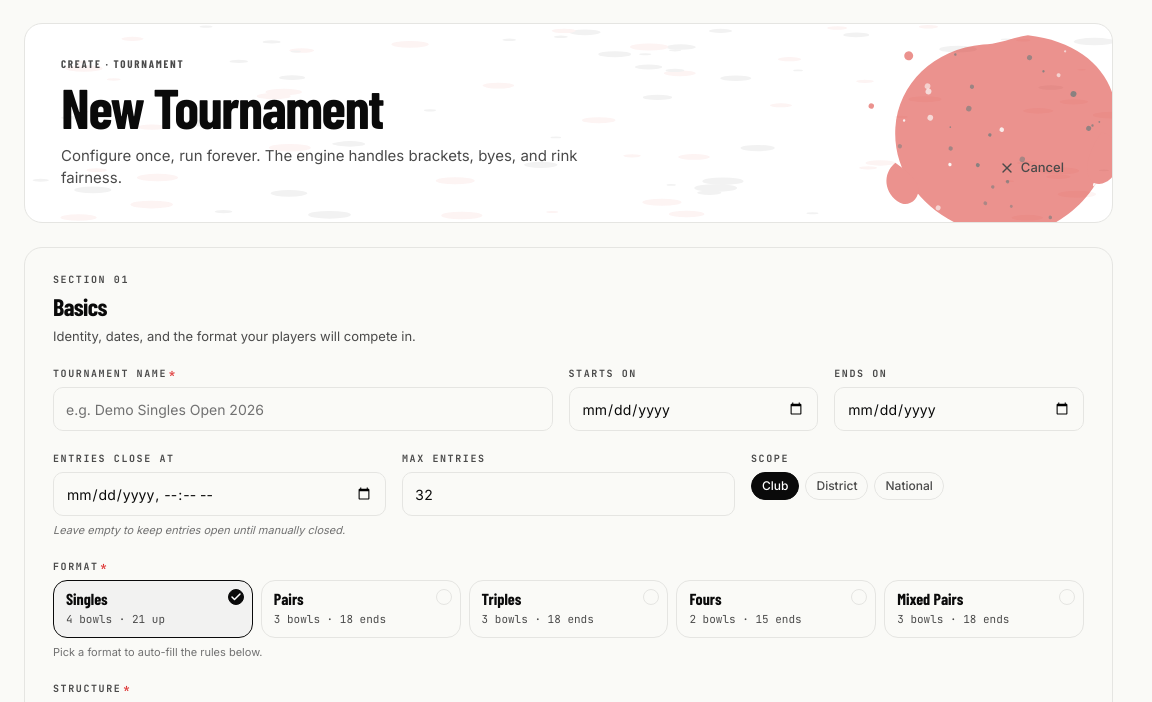
Test: <NewTournamentForm /> › flips the footer copy + enables submit once name + format + structure are set
Type "Demo Open 2026" into the field with placeholder "e.g. Demo Singles Open 2026" at (303, 409), box [53,387,552,431]
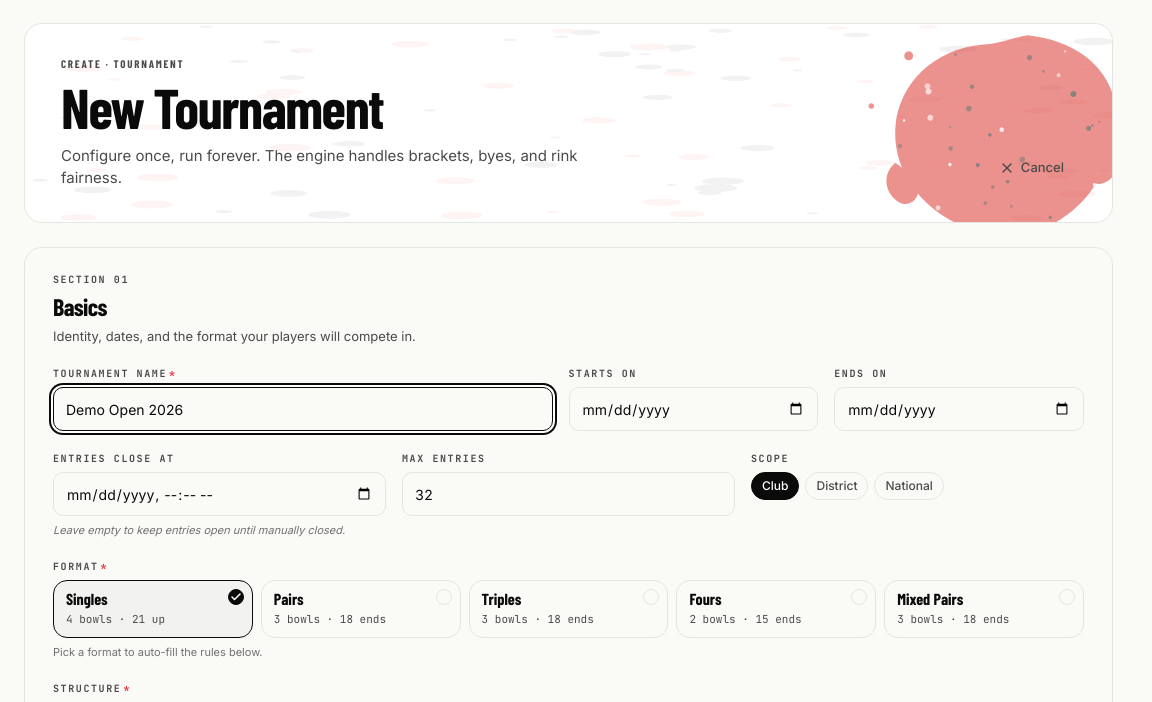
Click the radio button "Pairs" at (361, 609), box [261,580,461,638]
(page scrolled)
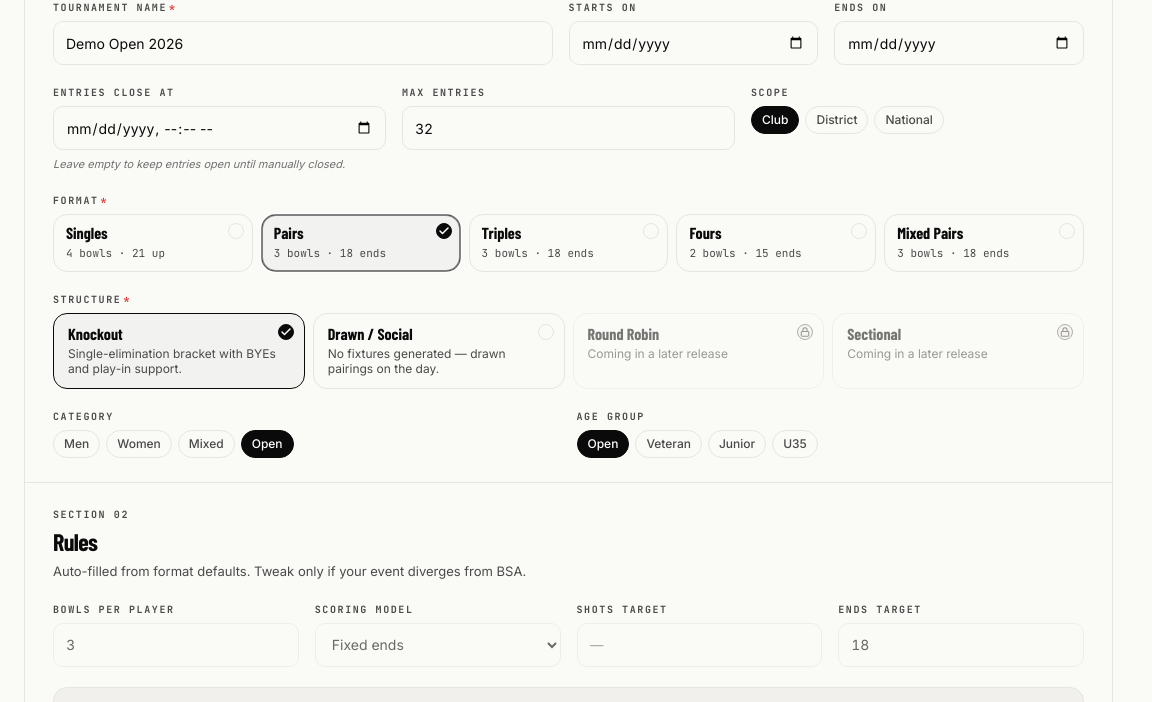
Click the radio button "Knockout" at (179, 351), box [53,313,305,389]
(page scrolled)
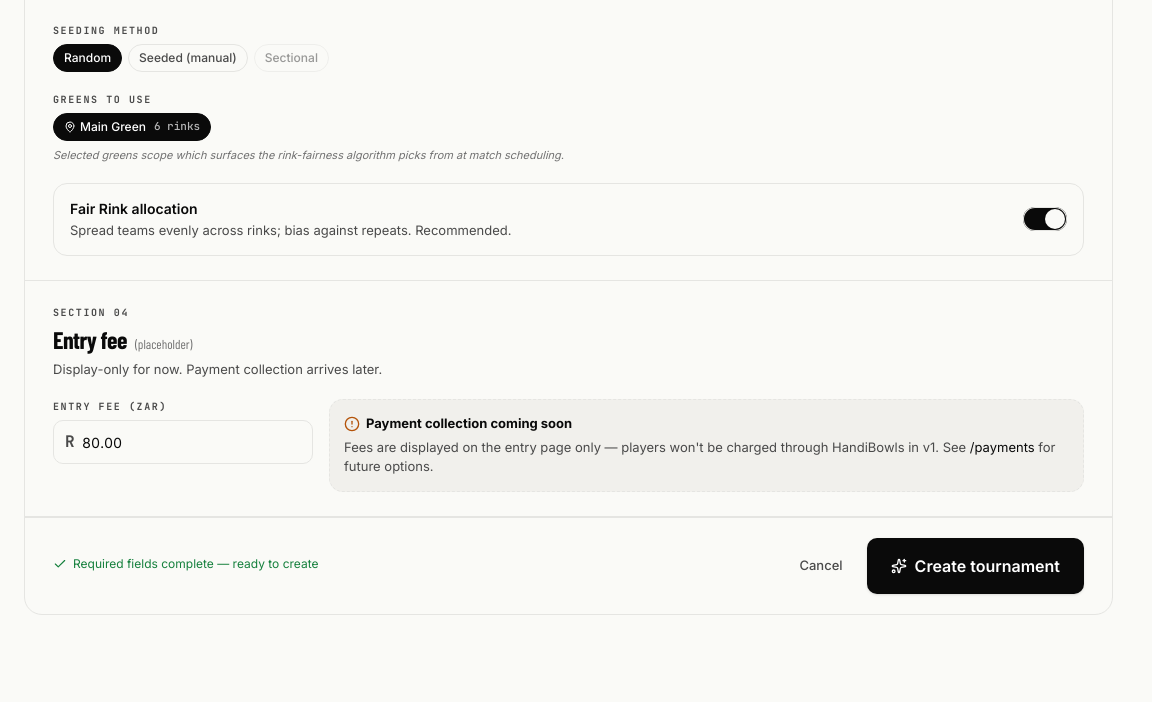
Result: the text "Required fields complete — ready to create" is shown at [53,555,318,573]
Result: the button "Create tournament" is enabled at [867,538,1084,594]
